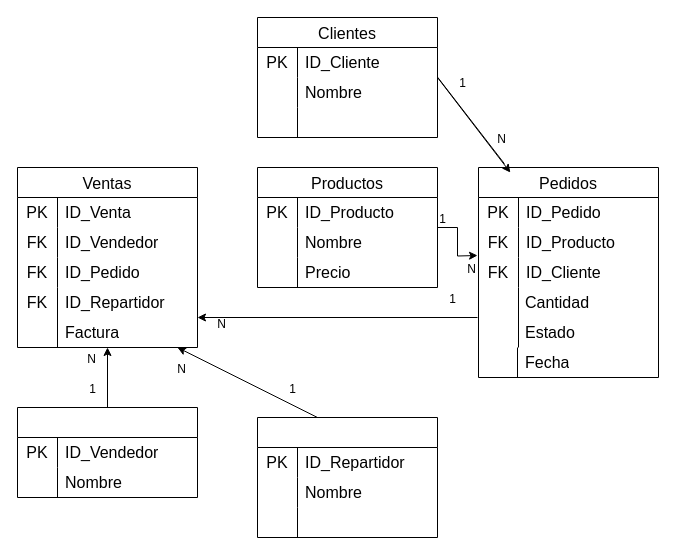
Image size: 676x555. Some labels were removed from this diagram. The shapes that lost their labels are listed below. From the top down, each one's box as (x1, y1, x2, y2) in pixels, then its label:
(16, 406, 198, 498): Vendedores
(256, 416, 438, 538): Repartidores
